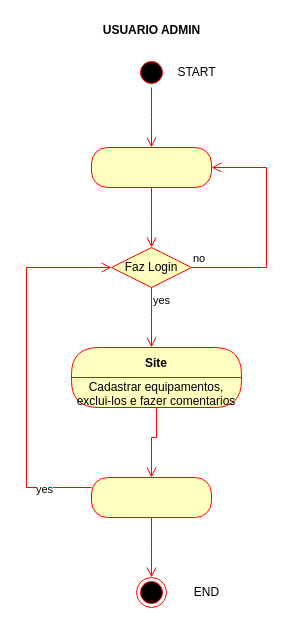
This 294x625 diagram has some shape labels left out. Here are the shapes that lost their labels. From the top down, the centre of each, then its label:
At point 151,167: "Cadastra Senha".
At point 151,497: "Faz LogOut".
